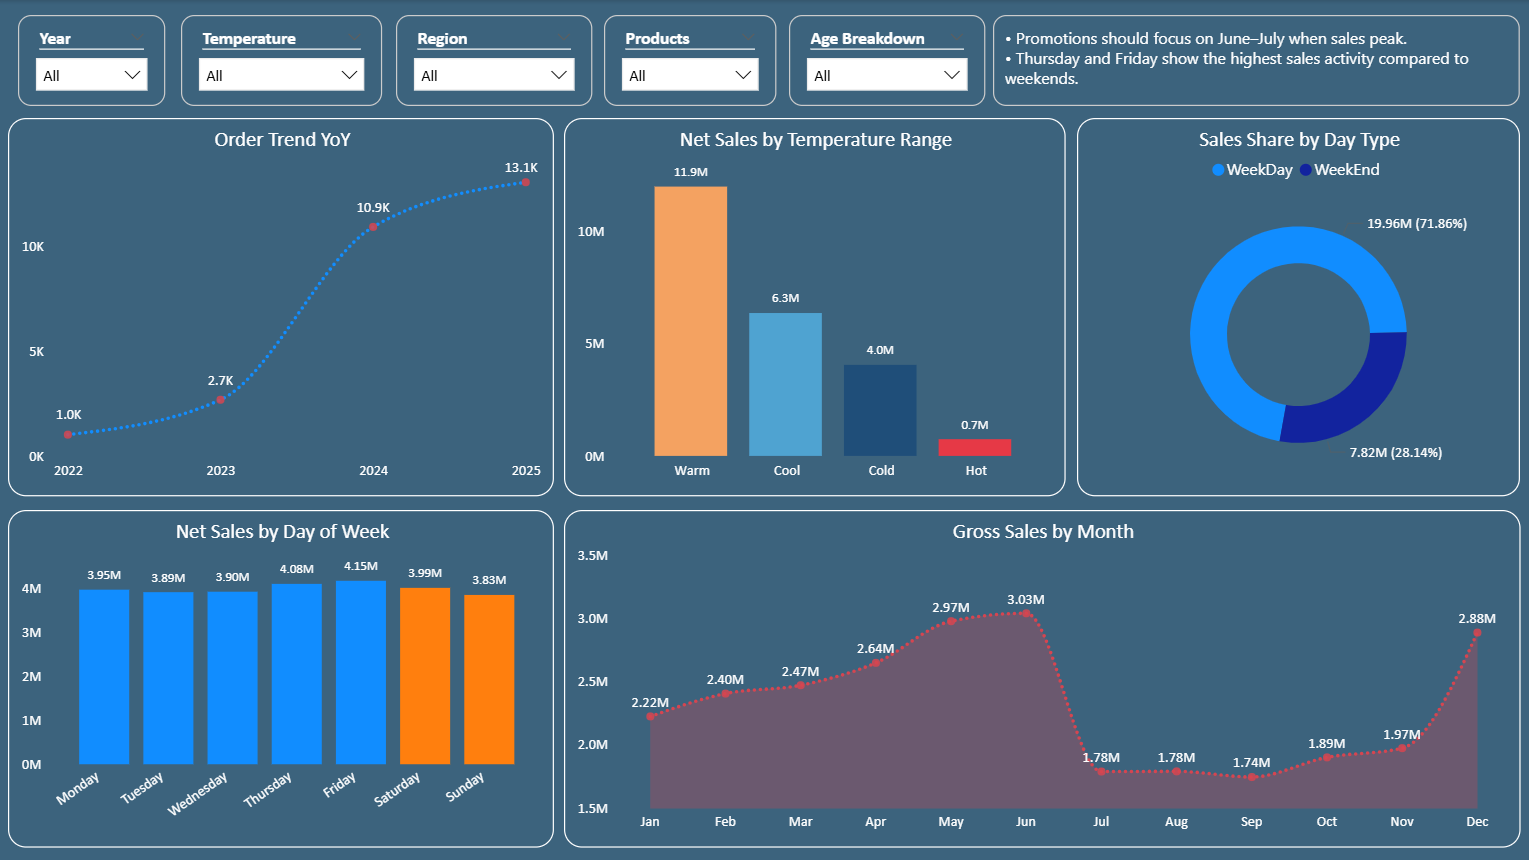

The dashboard page shown, as its layout file describes it:
{"tool":"powerbi","page":{"name":"📈 Sales Trend & Seasonality Sales","canvas":[1280,720],"ordinal":1},"visuals":[{"type":"stackedAreaChart","title":"Gross Sales by Month","fields":{"Category":["Dates.Short_month_name"],"Y":["Calculation group.Net Sales"]},"box":[472.5,426.4,799.1,282.4],"z":0},{"type":"lineStackedColumnComboChart","title":"Net Sales by Temperature Range","fields":{"Category":["Temperature.Temperature Range"],"Y":["Calculation group.Net Sales"]},"box":[472.5,98.8,418.8,316.2],"z":1000},{"type":"slicer","fields":{"Values":["Temperature.Region"]},"box":[332.2,12.2,163.8,76.2],"z":2000},{"type":"slicer","title":"Temp","fields":{"Values":["Temperature.Temperature Range"]},"box":[152.5,12.2,168.5,76.2],"z":3000},{"type":"donutChart","title":"Sales Share by Day Type","fields":{"Y":["Calculation group.Net Sales"],"Category":["Dates.day_type"]},"box":[901.6,98.8,369.9,316.2],"z":4000},{"type":"clusteredColumnChart","title":"Net Sales by Day of Week","fields":{"Y":["Calculation group.Net Sales"],"Category":["Dates.Day Name"]},"box":[8.5,426.4,456.5,282.4],"z":5000},{"type":"lineChart","title":"Order Trend YoY","fields":{"Category":["Dates.Year"],"Y":["Calculation group.Total Order"]},"box":[8.5,98.8,456.5,316.2],"z":6000},{"type":"slicer","fields":{"Values":["Dates.Year"]},"box":[16.9,12.2,123.3,76.2],"z":7000},{"type":"slicer","fields":{"Values":["Products.Product Class Label"]},"box":[506.4,12.2,144,76.2],"z":8000},{"type":"slicer","fields":{"Values":["Customers.Age Breakdown"]},"box":[660.7,12.2,163.8,76.2],"z":9000},{"type":"textbox","box":[831.1,12.2,440.5,76.2],"z":10000}]}

Visuals, with their boxes in screenshot pixels (x1, y1, x2, y2), scaled from the page's 1280x720 canvas onto the 1529x860 screenshot:
"Gross Sales by Month" stackedAreaChart: x1=564 y1=509 x2=1519 y2=847
"Net Sales by Temperature Range" lineStackedColumnComboChart: x1=564 y1=118 x2=1065 y2=496
slicer - Temperature.Region: x1=397 y1=15 x2=592 y2=106
"Temp" slicer: x1=182 y1=15 x2=383 y2=106
"Sales Share by Day Type" donutChart: x1=1077 y1=118 x2=1519 y2=496
"Net Sales by Day of Week" clusteredColumnChart: x1=10 y1=509 x2=555 y2=847
"Order Trend YoY" lineChart: x1=10 y1=118 x2=555 y2=496
slicer - Dates.Year: x1=20 y1=15 x2=167 y2=106
slicer - Products.Product Class Label: x1=605 y1=15 x2=777 y2=106
slicer - Customers.Age Breakdown: x1=789 y1=15 x2=985 y2=106
textbox: x1=993 y1=15 x2=1519 y2=106
